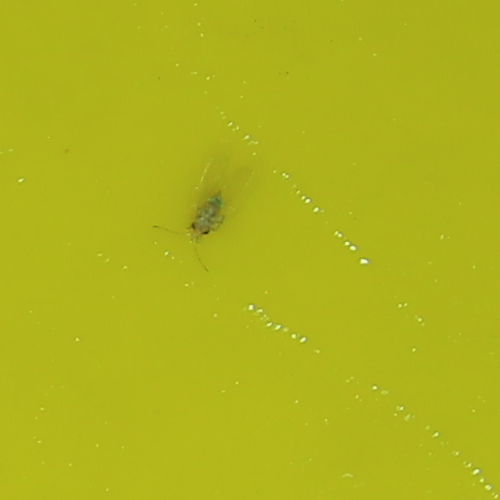Glycaspis: (188, 190, 225, 238)
